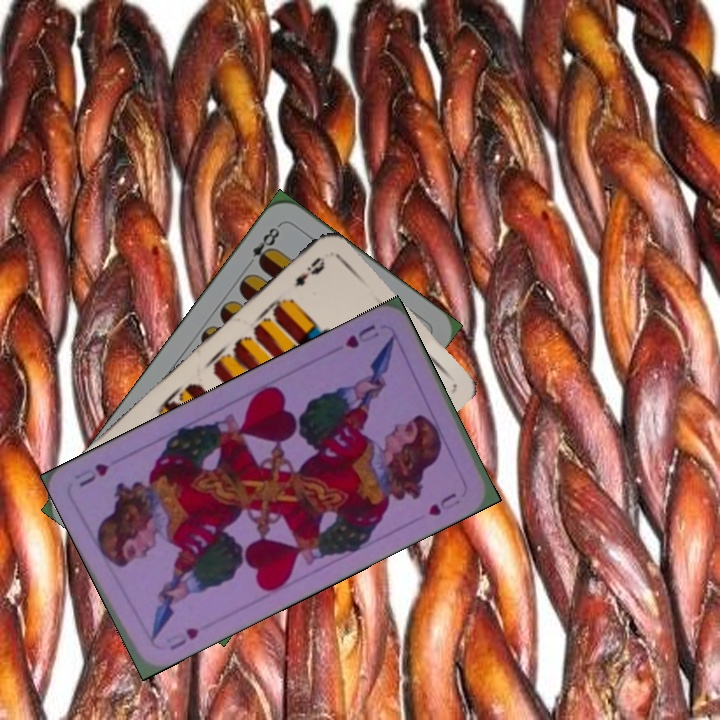E8: (242, 220, 284, 270)
E9: (290, 252, 328, 289)
HU: (341, 320, 382, 351), (165, 623, 201, 653)
